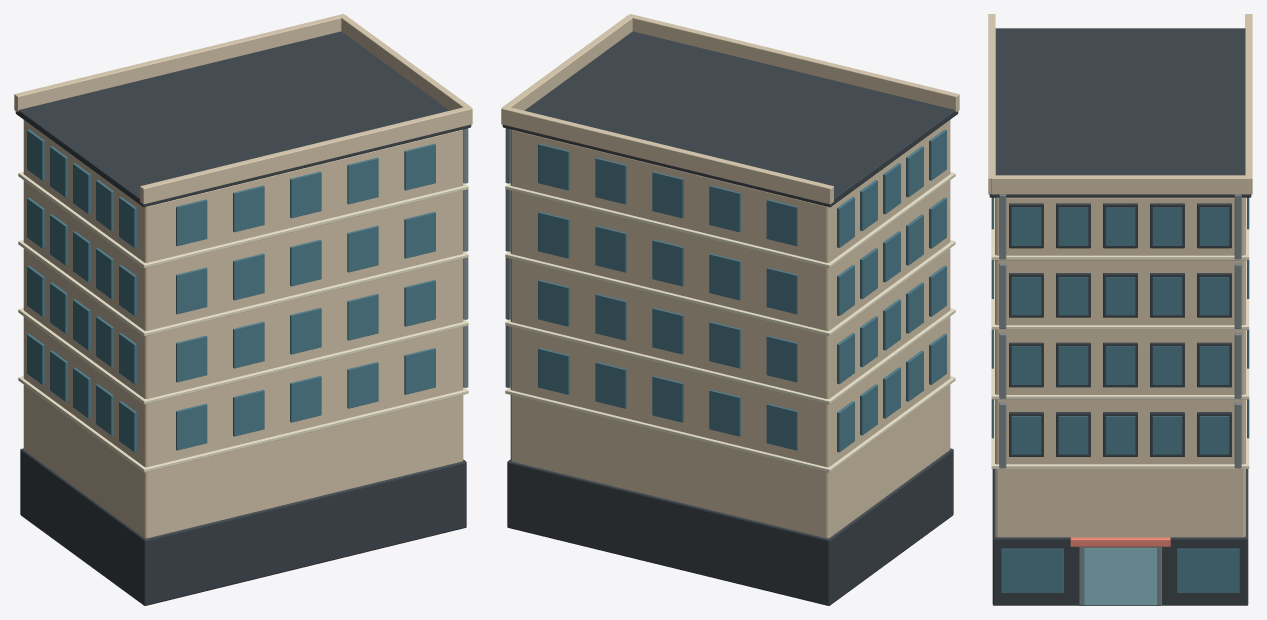
The model's file is Building.fbx.
3 views of the same model, side by side, from view 1: azimuth 30°, elevation 25°; view 2: azimuth 150°, elevation 25°; view 3: azimuth 270°, elevation 25° (orthographic). The views are drawn at different scales.
Visible parts, largest first — view 1: Building; view 2: Building; view 3: Building.
Part boxes in pixels (left/top/right/bottom): Building: left=14, top=14, right=472, bottom=605; Building: left=501, top=14, right=959, bottom=605; Building: left=988, top=14, right=1252, bottom=605.
Size of the model in its own units: 1264 by 1513 by 844.
